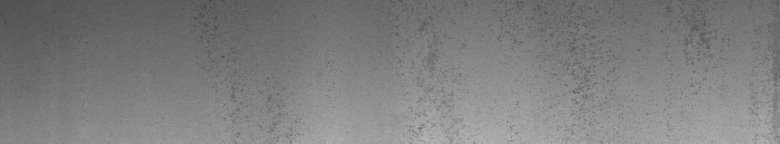ib: (498, 4, 608, 134)
